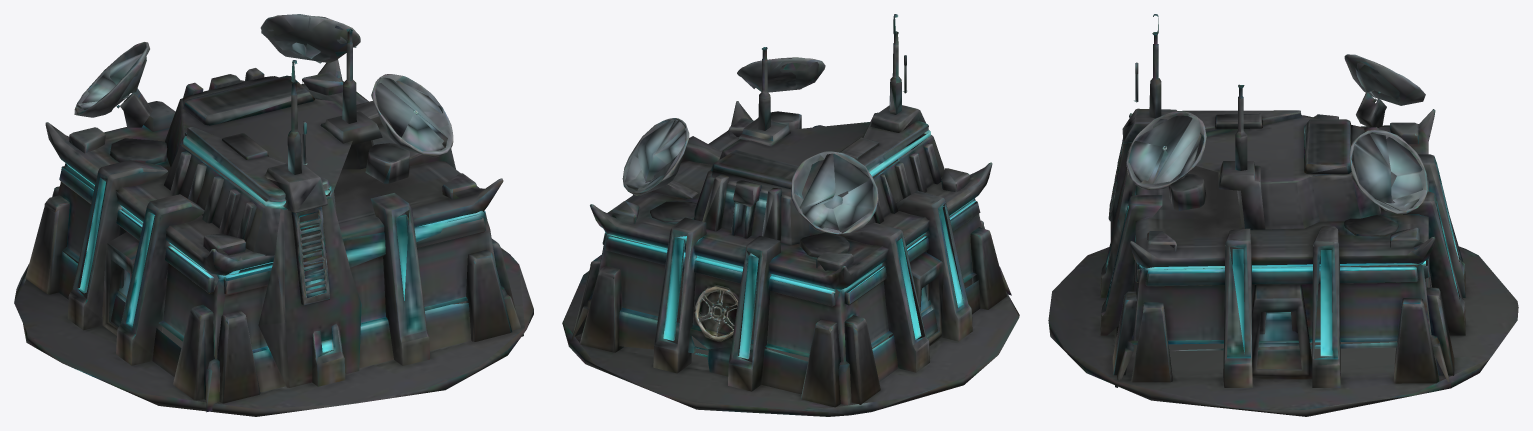
The model's file is siege_works.glb.
3 views of the same model, side by side, from view 1: azimuth 30°, elevation 25°; view 2: azimuth 150°, elevation 25°; view 3: azimuth 270°, elevation 25° (orthographic). The views are drawn at different scales.
Parts seen in each view (by area): view 1: Body, Trim; view 2: Body, Trim; view 3: Body, Trim.
Boxes of the visible parts, x1,y1,x2,y2 form: Body: [14, 14, 533, 416]; Trim: [62, 136, 485, 352]; Body: [562, 14, 1019, 416]; Trim: [604, 91, 975, 359]; Body: [1048, 14, 1518, 416]; Trim: [1106, 100, 1459, 356].
Bounding box in the file's own units: 15.91 × 10.49 × 15.91.
Materials: 2 (2 with a texture image).
